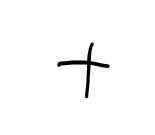plus: (57, 43, 109, 98)
